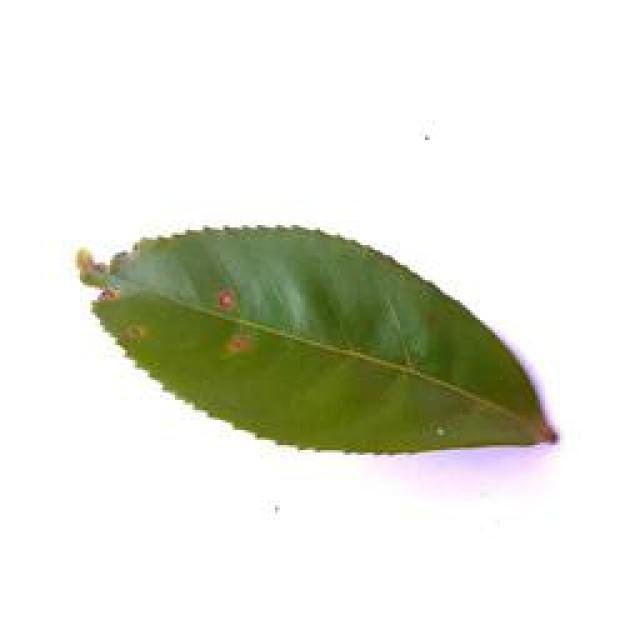Helopeltis: (56, 225, 569, 468)
